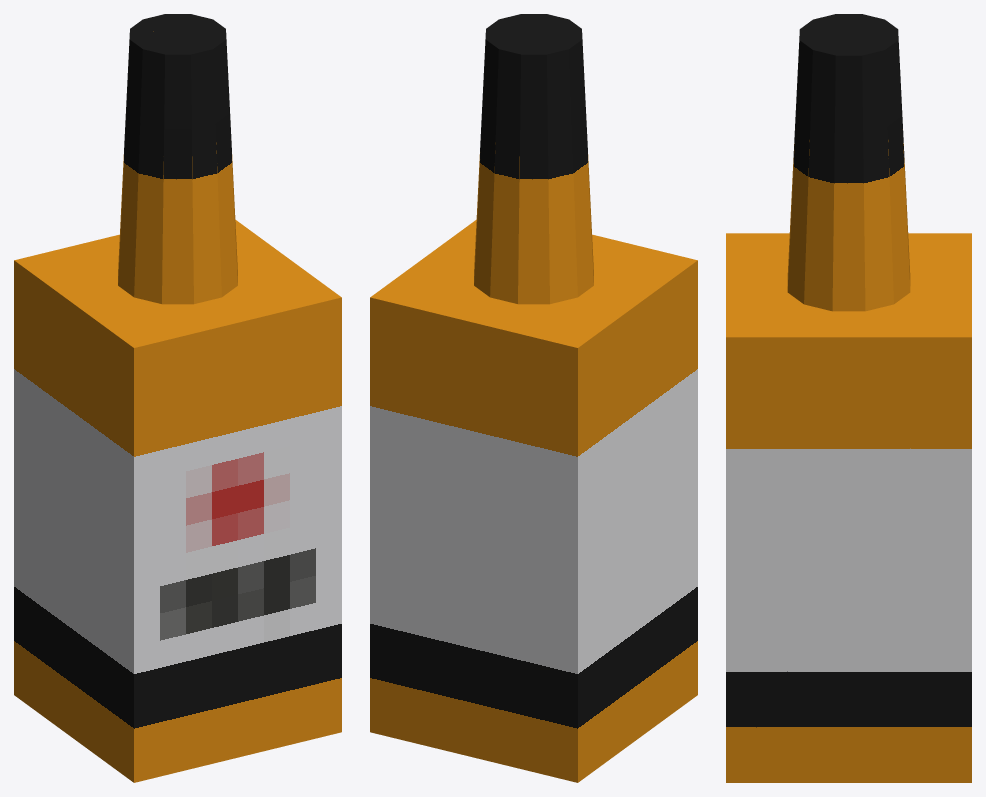
The model's file is whiskey.obj.
3 views of the same model, side by side, from view 1: azimuth 30°, elevation 25°; view 2: azimuth 150°, elevation 25°; view 3: azimuth 270°, elevation 25° (orthographic). The views are drawn at different scales.
Visible parts, largest first — view 1: cuboid; view 2: cuboid; view 3: cuboid.
Part boxes in pixels (bbox=[...]): cuboid: bbox=[14, 14, 341, 782]; cuboid: bbox=[370, 14, 697, 782]; cuboid: bbox=[726, 14, 971, 782].
Bounding box in the file's own units: 0.25 × 0.7812 × 0.25.
1 material, 1 textured.
